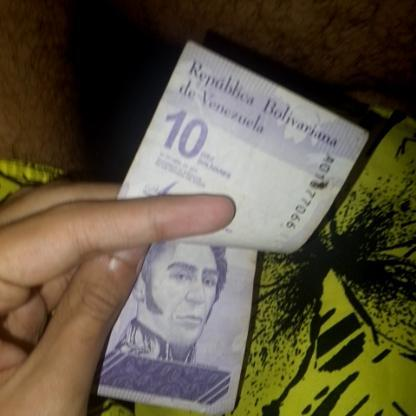ten-front-vef: (100, 39, 374, 416)
